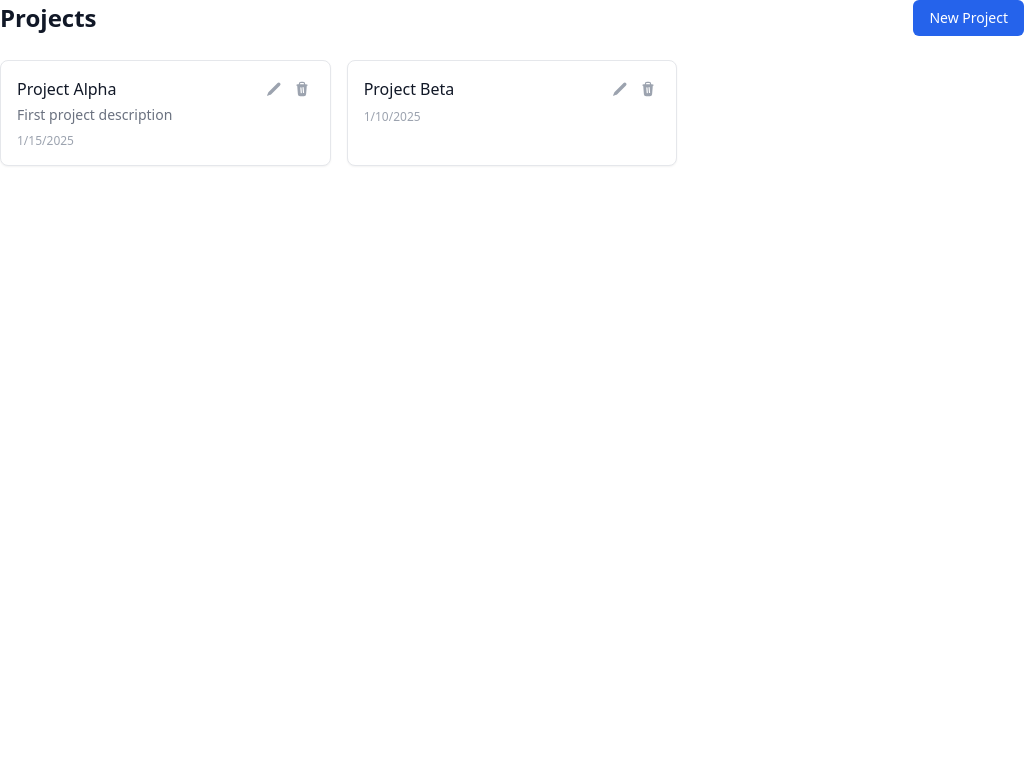
Test case: DashboardPage › opens confirm dialog when delete button is clicked on a project card
Click the button named "Delete project" in the row of "Project Alpha" at (302, 89), box [290,77,314,101]
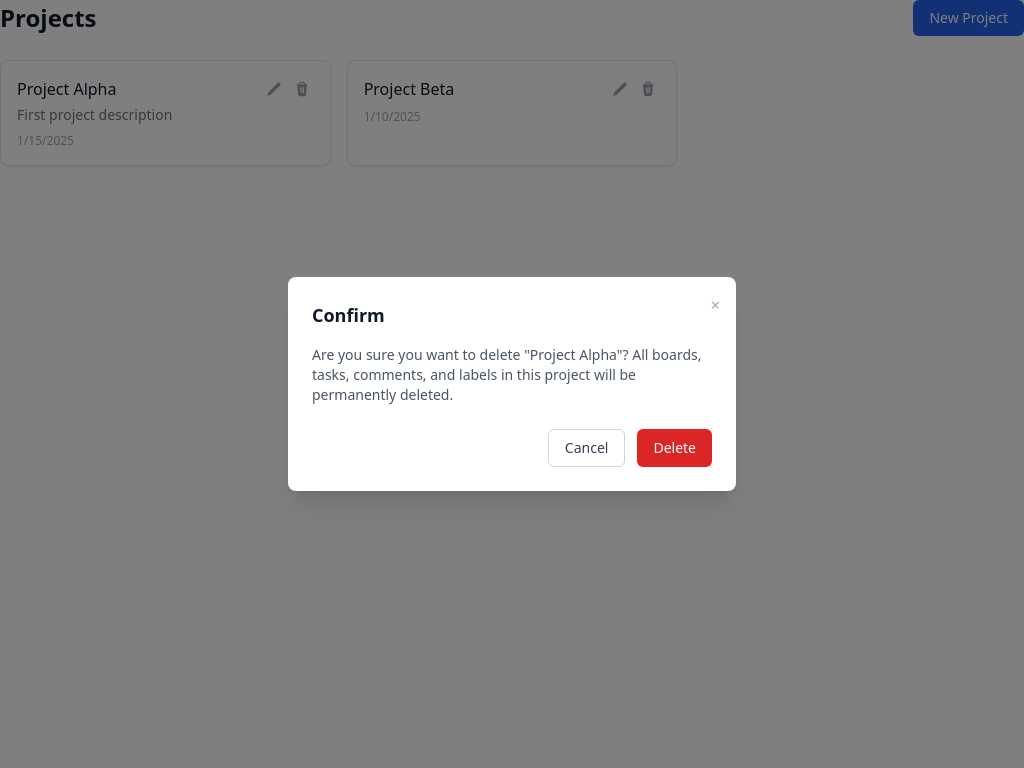
Check: the text "Are you sure you want to delete \"Project Alpha\"" is shown, box [312,345,702,404]
